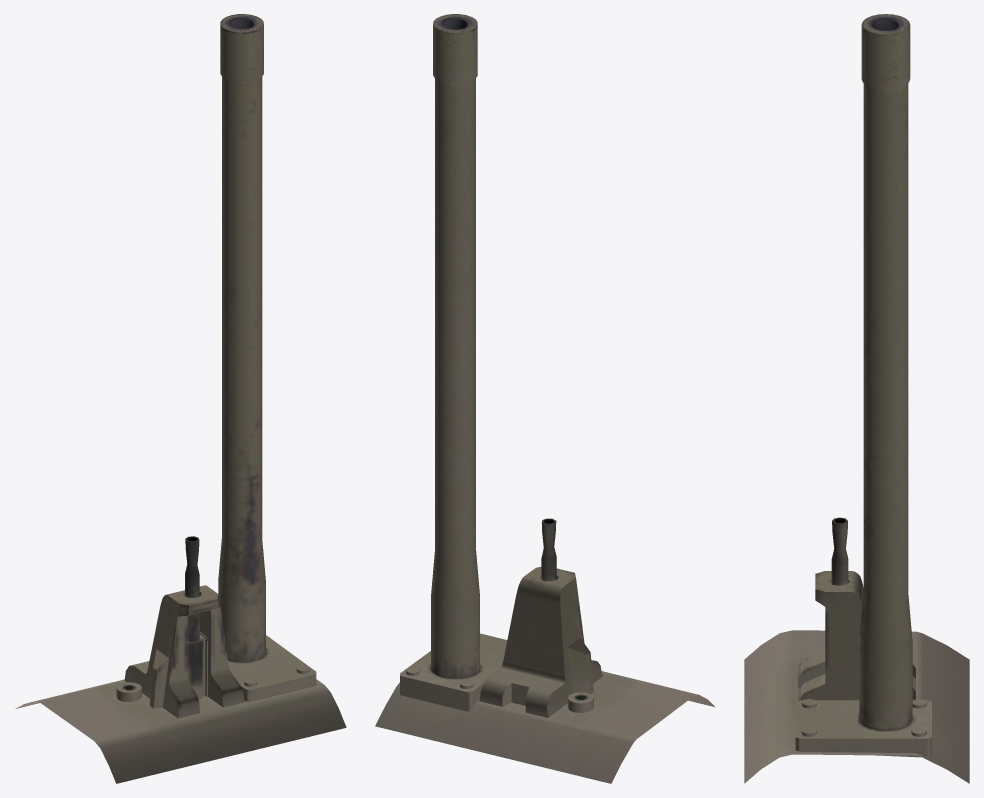
The model's file is Gun_02.glb.
3 views of the same model, side by side, from view 1: azimuth 30°, elevation 25°; view 2: azimuth 150°, elevation 25°; view 3: azimuth 270°, elevation 25° (orthographic). The views are drawn at different scales.
Visible parts, largest first — view 1: set_0_group_0; view 2: set_0_group_0; view 3: set_0_group_0.
Boxes of the visible parts, x1,y1,x2,y2 form: set_0_group_0: (15,14,346,783); set_0_group_0: (375,14,715,783); set_0_group_0: (744,14,969,783).
Bounding box in the file's own units: 0.6116 × 1.69 × 0.4689.
Materials: 1 (1 with a texture image).
